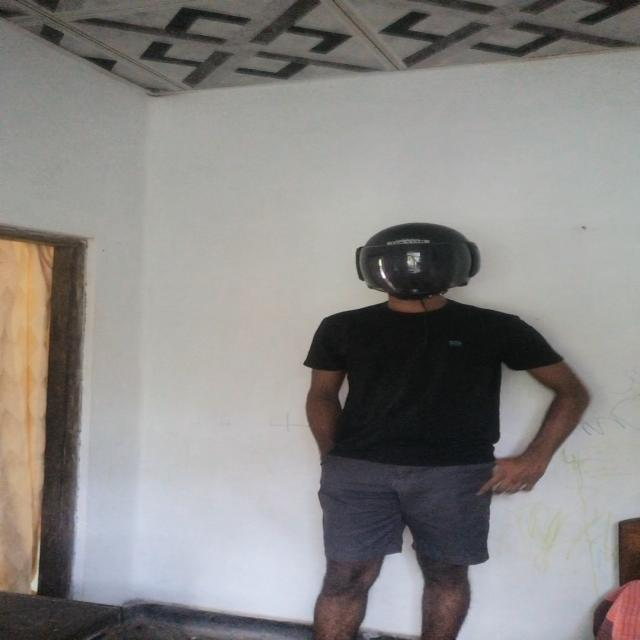Helmet_Wearer: (350, 222, 496, 316)
Person: (278, 218, 574, 640)
